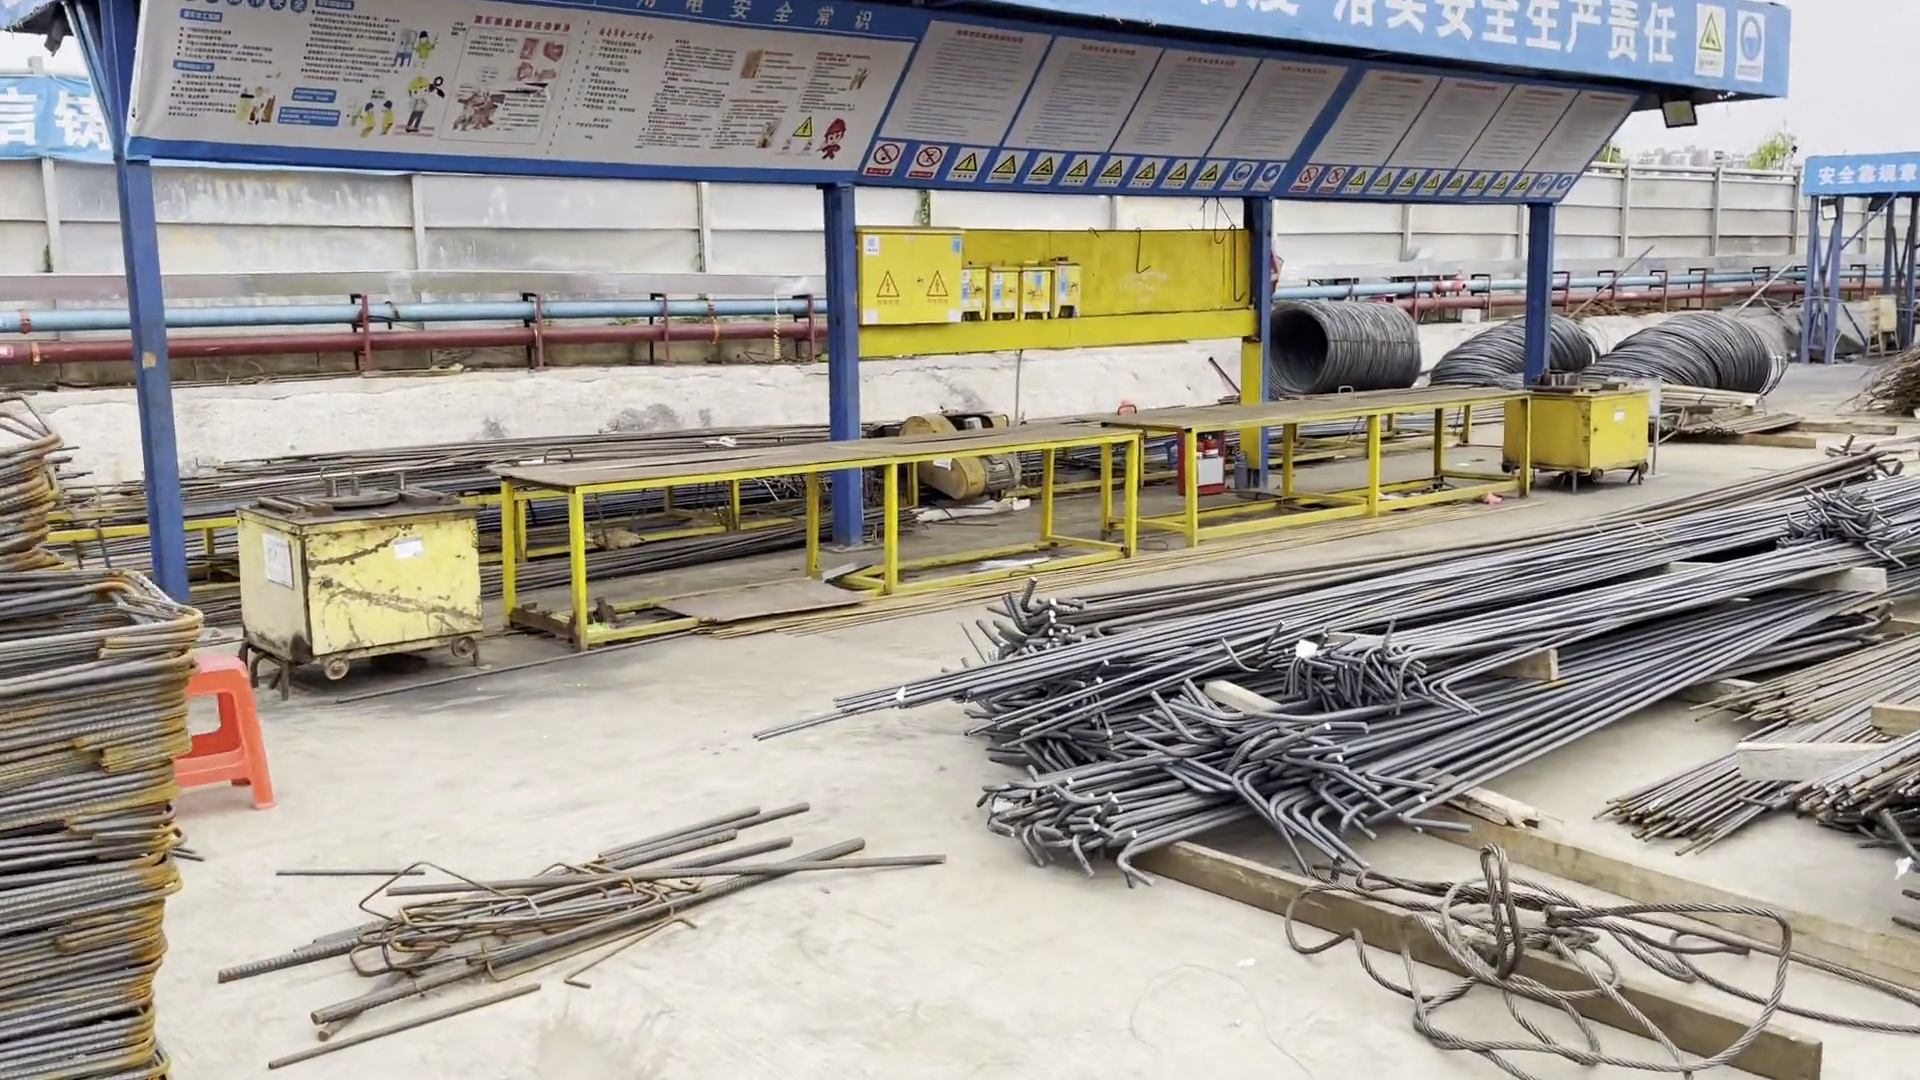rebar: (895, 411, 1920, 903)
slogan: (1824, 157, 1920, 194)
